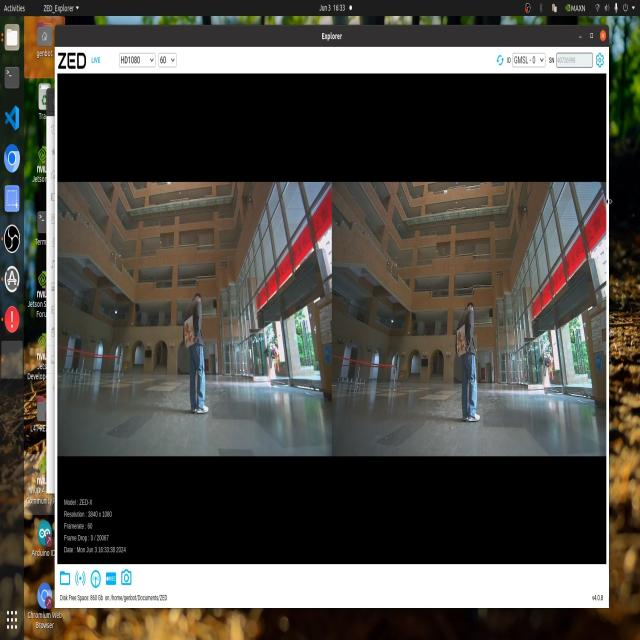red: (183, 320, 194, 345), (456, 327, 465, 353)
